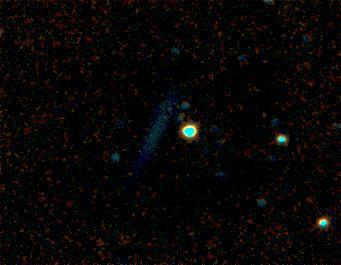star: (246, 98, 276, 128)
